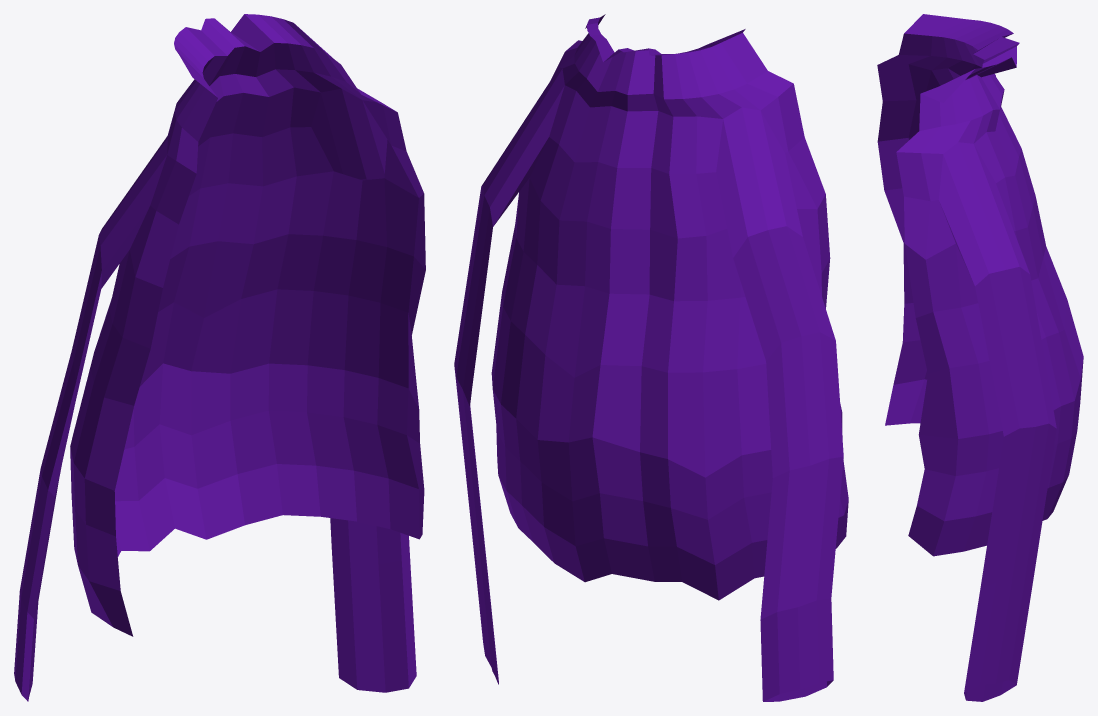
Rendered from PinkJacket.006.fbx.
3 views of the same model, side by side, from view 1: azimuth 30°, elevation 25°; view 2: azimuth 150°, elevation 25°; view 3: azimuth 270°, elevation 25° (orthographic). The views are drawn at different scales.
Visible parts, largest first — view 1: PinkJacket.006; view 2: PinkJacket.006; view 3: PinkJacket.006.
Boxes of the visible parts, x1,y1,x2,y2 form: PinkJacket.006: [14, 14, 425, 701]; PinkJacket.006: [454, 14, 848, 701]; PinkJacket.006: [877, 14, 1083, 701].
Size of the model in its own units: 204 by 353 by 111.
